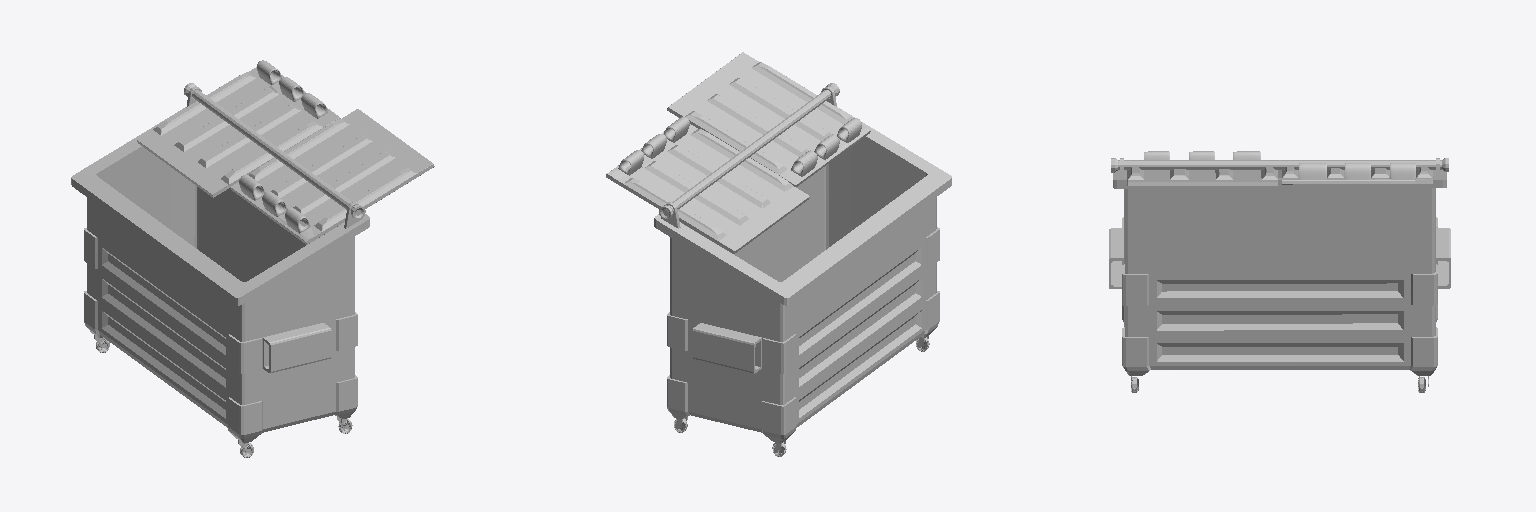
The model's file is kontejner.obj.
The picture shows the model from 3 angles: view 1: azimuth 30°, elevation 25°; view 2: azimuth 150°, elevation 25°; view 3: azimuth 270°, elevation 25°; orthographic projection.
Size of the model in its own units: 330 by 394 by 477.